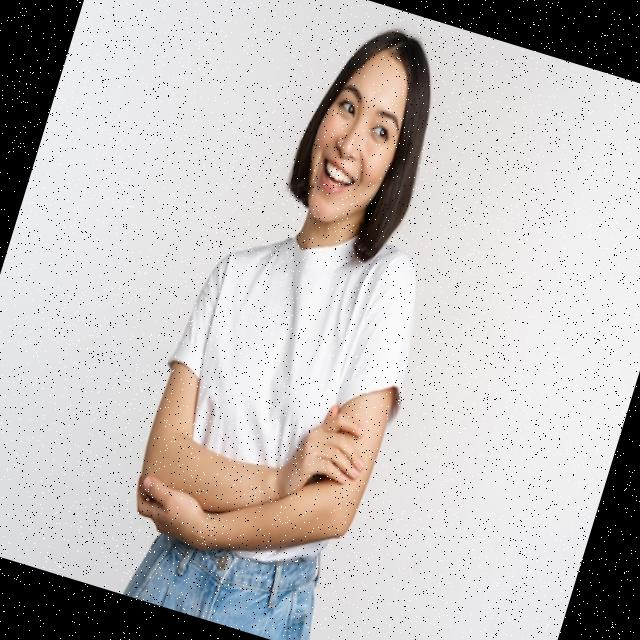Person: (99, 0, 505, 640)
